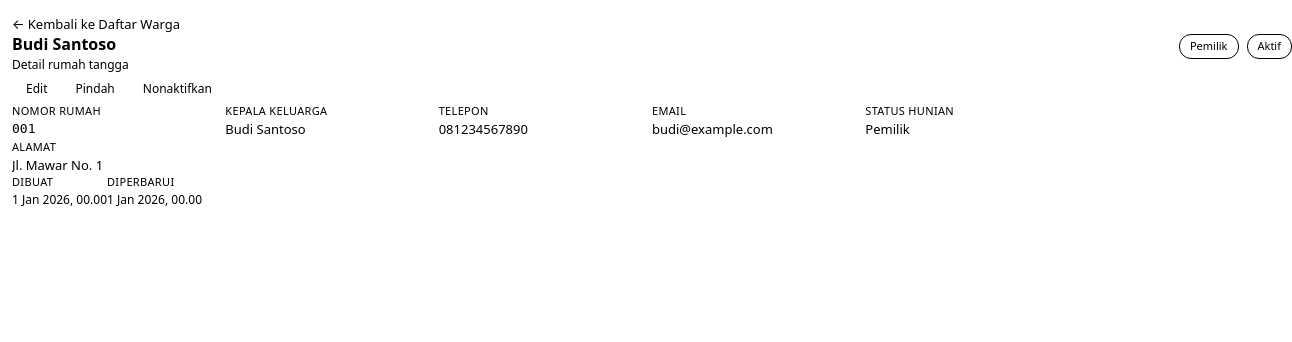
Test: W4.3 — HouseholdDetail action buttons › DEACTIVATE button shows confirmation dialog
The width and height of the screenshot is (1292, 342).
Expected: the text "Nonaktifkan rumah tangga" is not shown
# Click to show confirmation
Click the button "Nonaktifkan": (177,88) [129, 74, 226, 103]
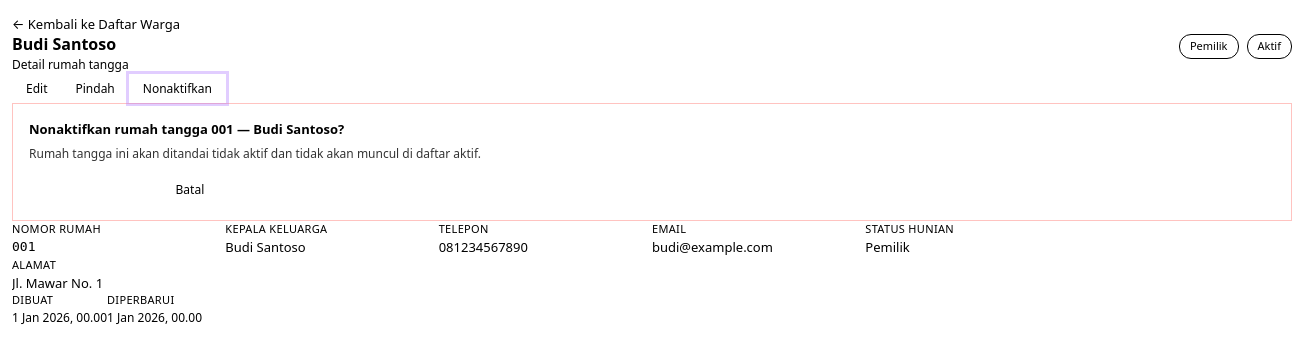
Result: the element that starts with "Nonaktifkan rumah tangga" is shown at [12, 103, 1291, 221]
Result: the element that starts with "Nonaktifkan rumah tangga" shows "001" at [211, 120, 234, 138]
Result: the element that starts with "Nonaktifkan rumah tangga" shows "Budi Santoso" at [253, 120, 338, 138]
